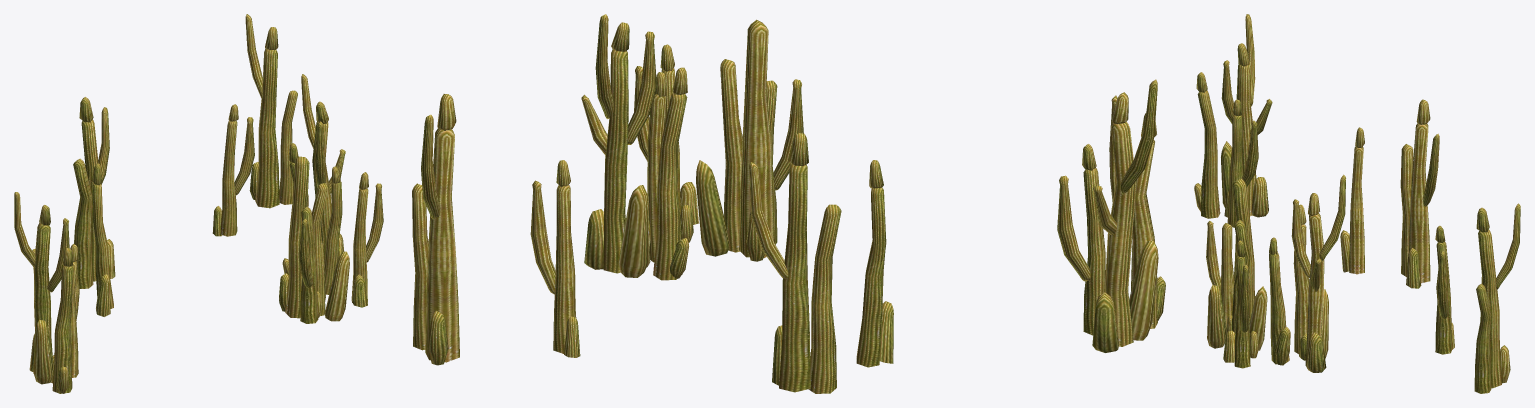
File: S_Plant_Yellow002.FBX
The picture shows the model from 3 angles, left to right: view 1: azimuth 30°, elevation 25°; view 2: azimuth 150°, elevation 25°; view 3: azimuth 270°, elevation 25°; orthographic projection. The views are drawn at different scales.
Visible parts, largest first — view 1: S_Plant_Yellow002; view 2: S_Plant_Yellow002; view 3: S_Plant_Yellow002.
Part boxes in pixels (<box>): S_Plant_Yellow002: <box>14,14,383,393</box>; S_Plant_Yellow002: <box>412,14,1165,393</box>; S_Plant_Yellow002: <box>1194,14,1520,393</box>.
Bounding box in the file's own units: 863 × 619 × 400.
